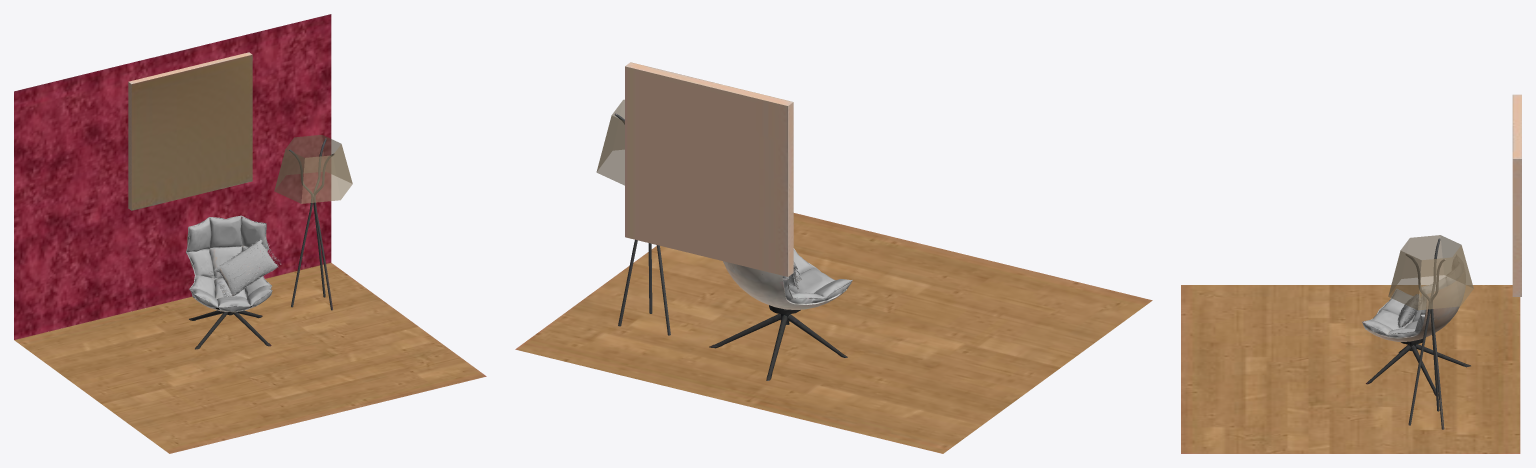
Rendered from my_small_room8.glb.
3 views of the same model, side by side, from view 1: azimuth 30°, elevation 25°; view 2: azimuth 150°, elevation 25°; view 3: azimuth 270°, elevation 25° (orthographic). The views are drawn at different scales.
Visible parts, largest first — view 1: Sofa, Room, Lamp_shade; view 2: Sofa, Lamp_shade; view 3: Sofa, Lamp_shade.
Part boxes in pixels (x1,y1,x2,y2): Sofa: (14, 52, 486, 453); Room: (14, 14, 331, 339); Lamp_shade: (274, 135, 352, 203); Sofa: (515, 62, 1152, 453); Lamp_shade: (596, 99, 624, 185); Sofa: (1181, 94, 1521, 453); Lamp_shade: (1388, 235, 1473, 310).
Bounding box in the file's own units: 6.29 × 4.71 × 5.37.
Materials: 3 (2 with a texture image).
